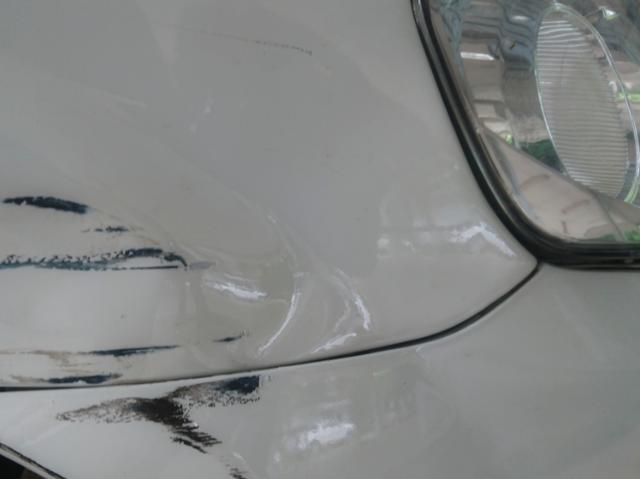Bumper: (10, 374, 483, 479)
Fender: (0, 0, 555, 394)
